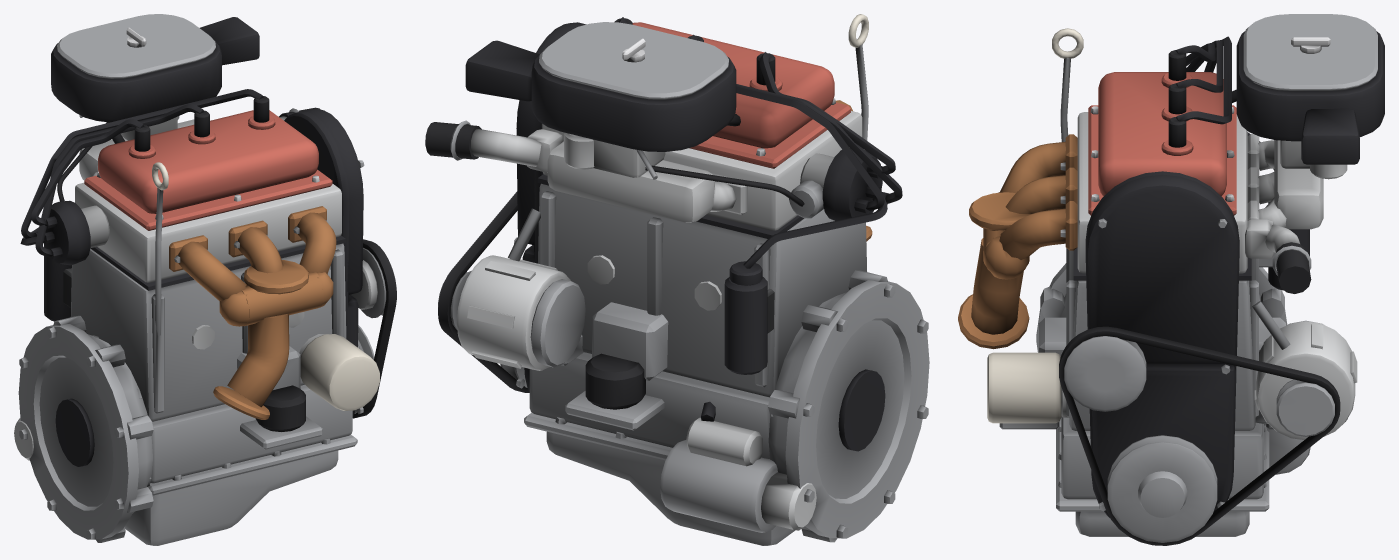
The model's file is eng_i3.glb.
3 renders of one model, left to right at view 1: azimuth 30°, elevation 25°; view 2: azimuth 150°, elevation 25°; view 3: azimuth 270°, elevation 25°, orthographic. The views are drawn at different scales.
Visible parts, largest first — view 1: PART; view 2: PART; view 3: PART.
Part boxes in pixels (bbox=[...]): PART: bbox=[14, 14, 396, 545]; PART: bbox=[425, 14, 929, 545]; PART: bbox=[958, 14, 1384, 545].
Bounding box in the file's own units: 0.4553 × 0.5425 × 0.432.
